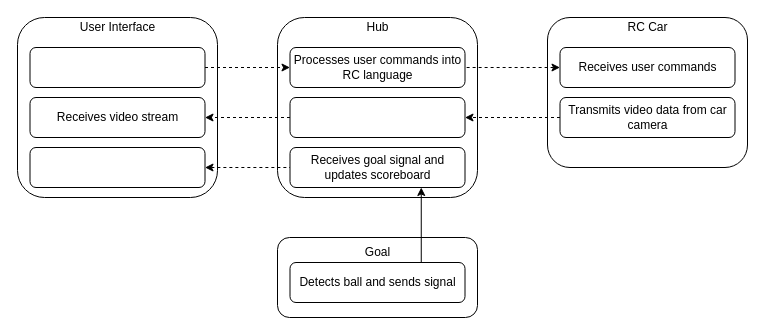
Some shapes in this 765 by 335 pixel diagram are drawn without their labels. Each missing label, with the centre of its shape:
Receives scoreboard data: point 117,167
Receives video data and transmits to user: point 377,117
Sends WASD keyboard input: point 117,67
